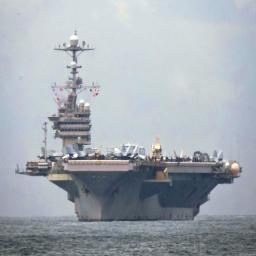Portanaves: (14, 24, 245, 223)
